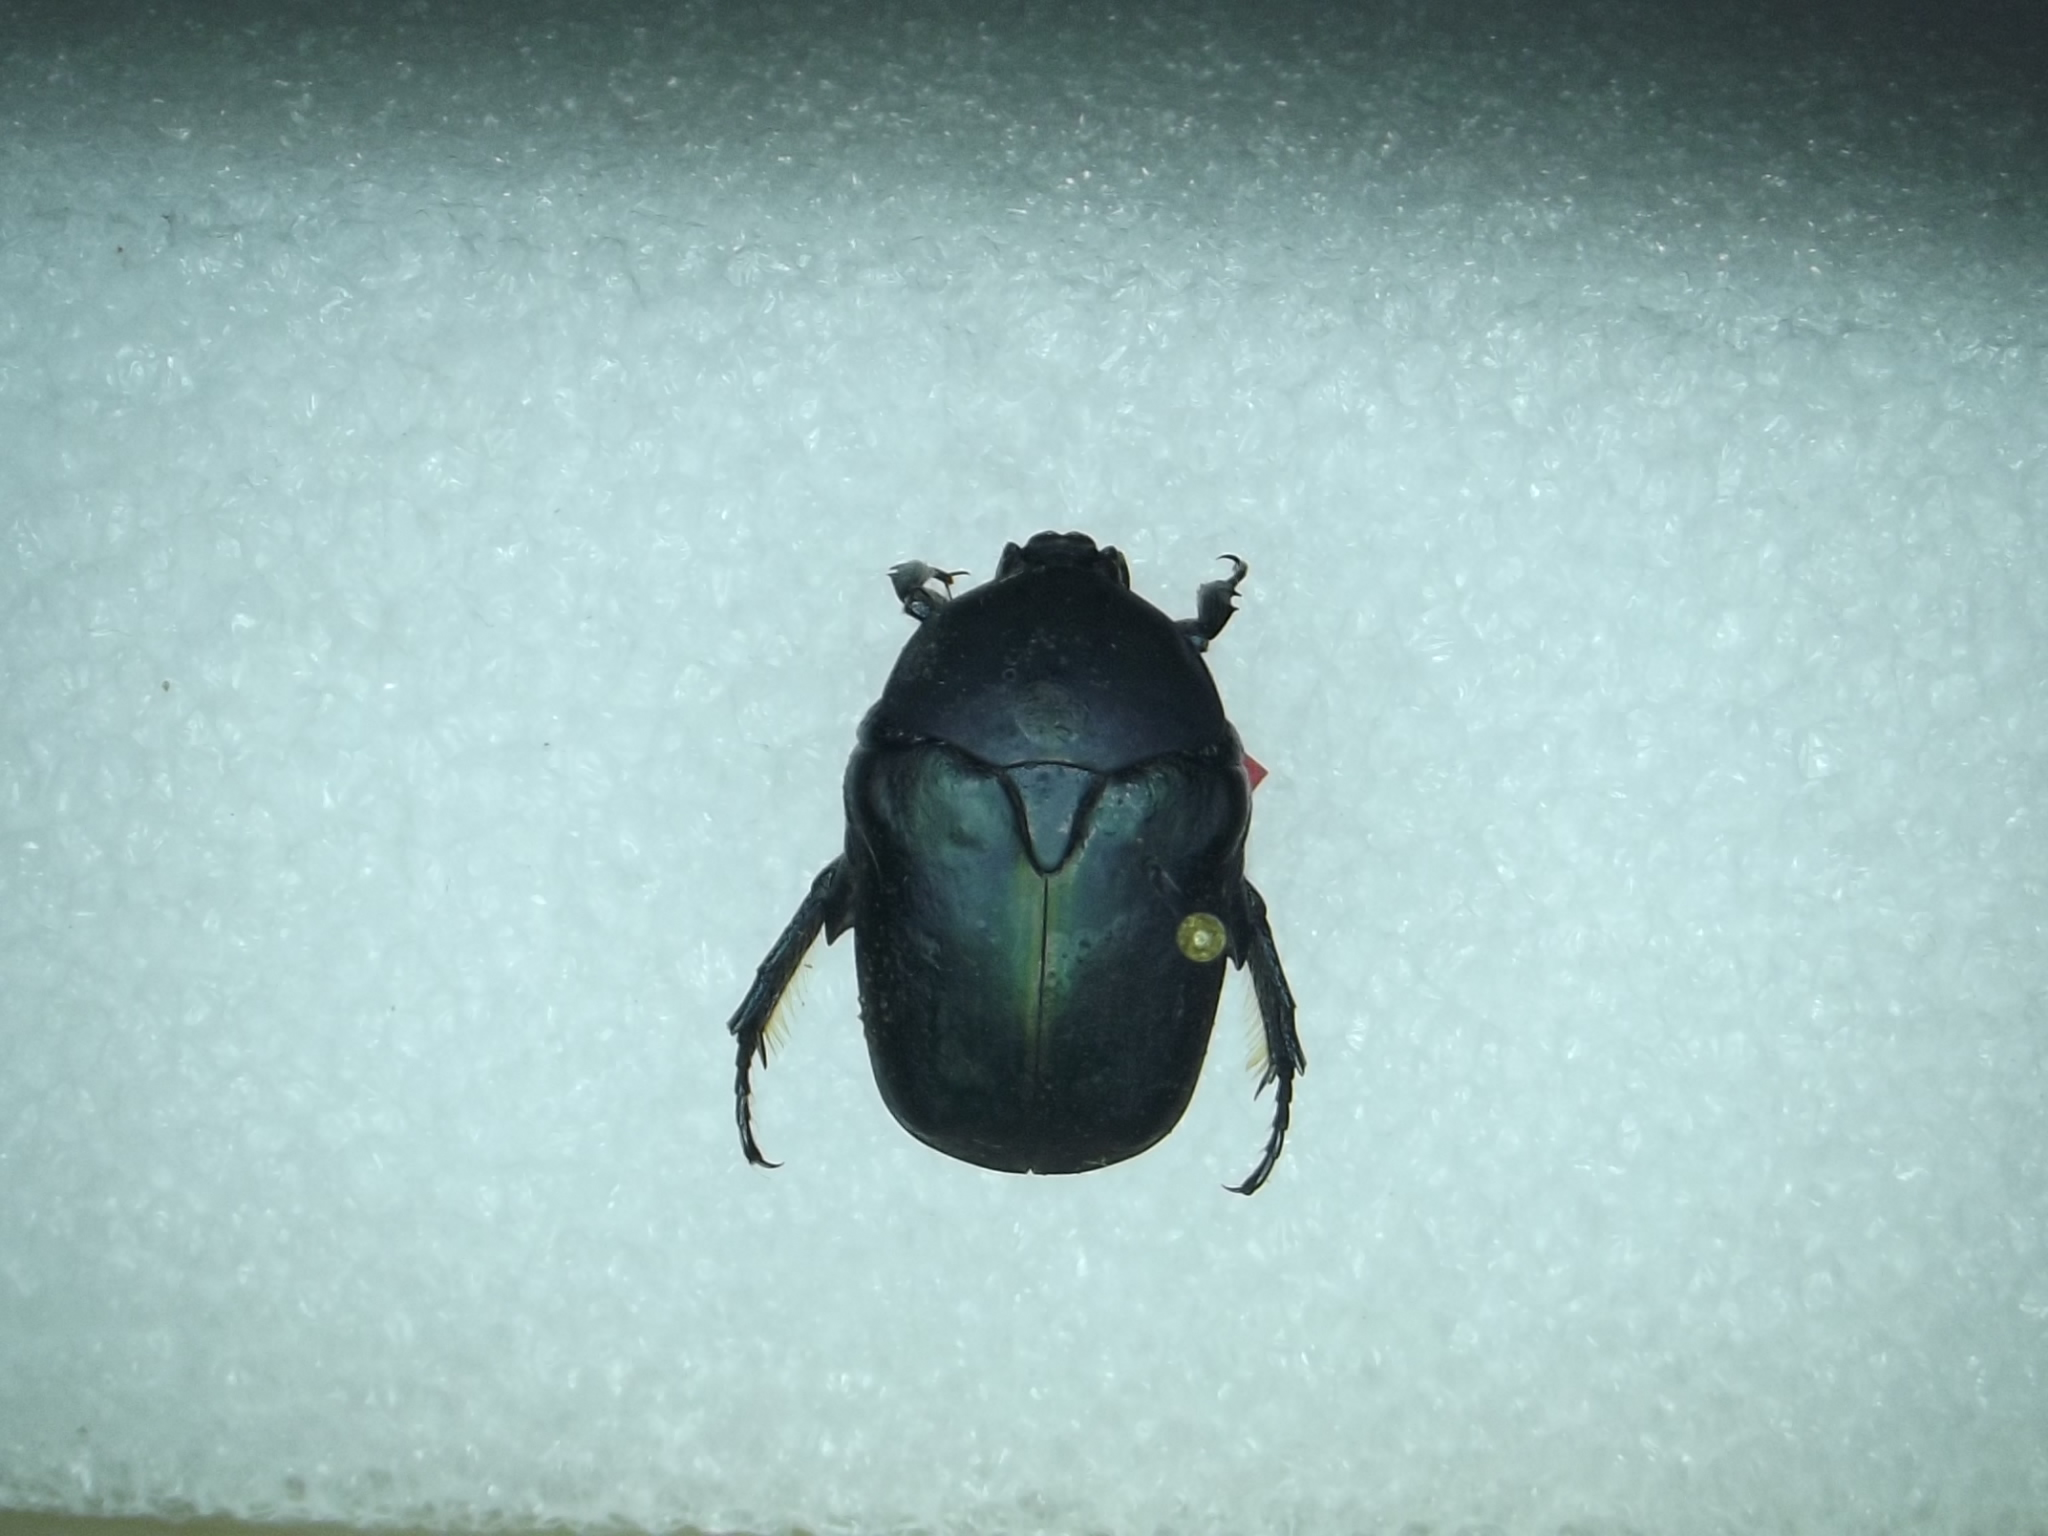Protaetia_afflicta: (714, 528, 1314, 1221)
